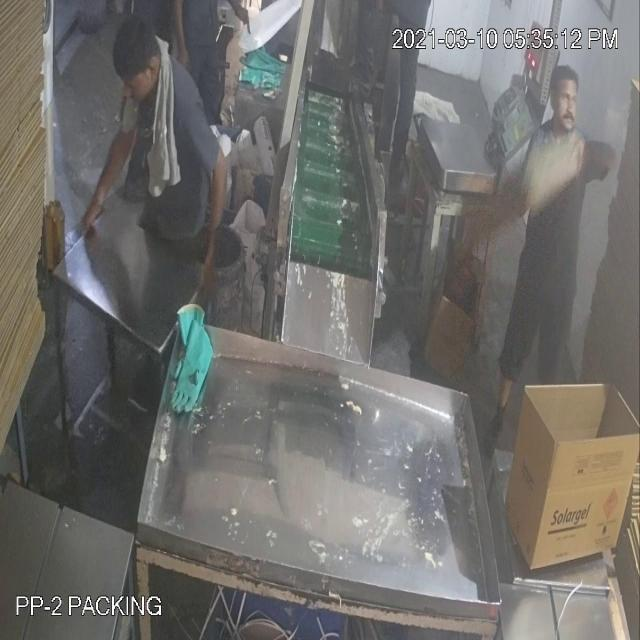No_Gloves: (33, 140, 216, 228)
